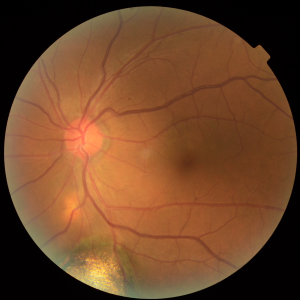retina_disease: (41, 92, 241, 207)
